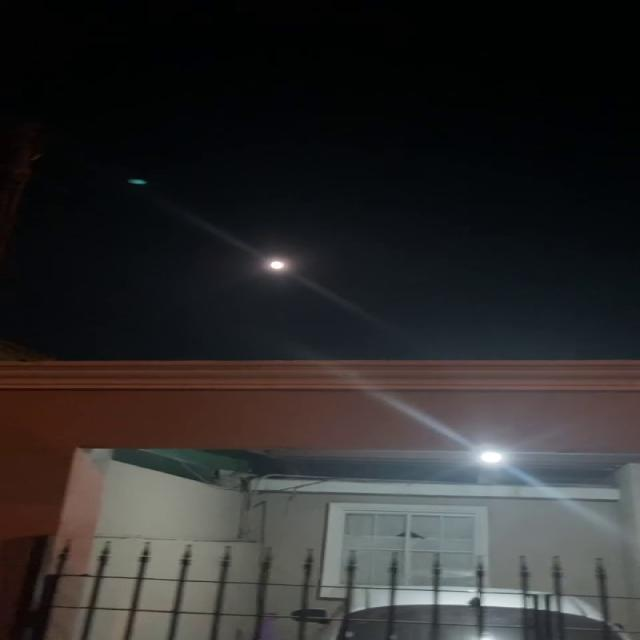moon: (267, 251, 290, 281)
